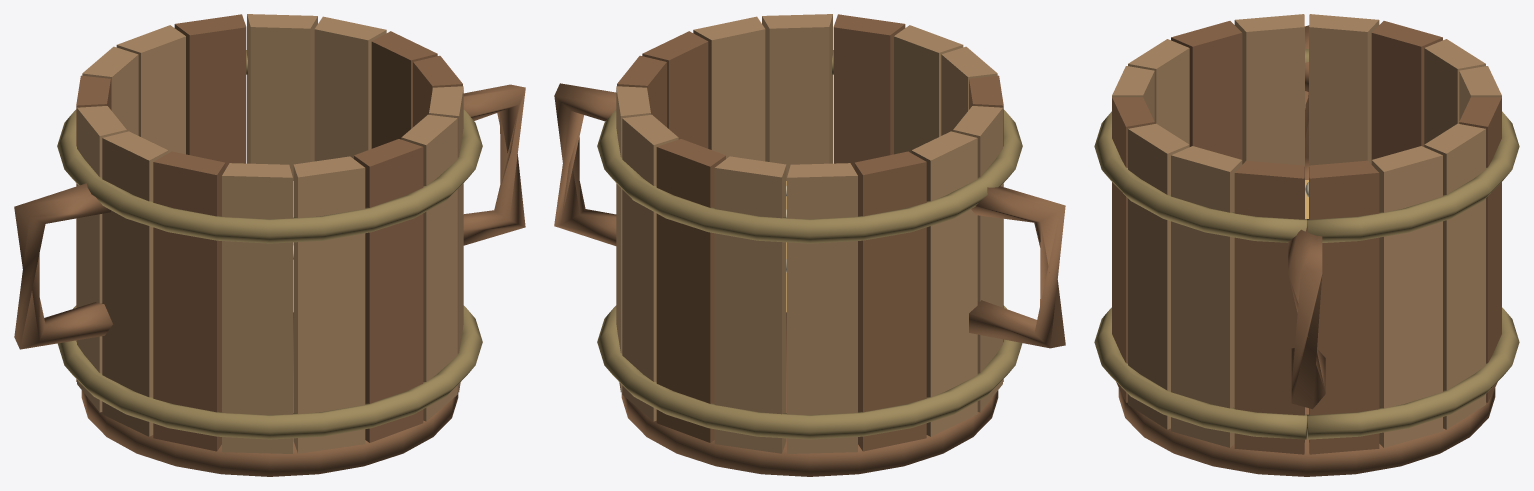
Rendered from grain-measure.glb.
The picture shows the model from 3 angles, left to right: view 1: azimuth 30°, elevation 25°; view 2: azimuth 150°, elevation 25°; view 3: azimuth 270°, elevation 25°; orthographic projection.
Parts seen in each view (by area): view 1: grain-measure__woodlight, grain-measure__wood, grain-measure__bronze; view 2: grain-measure__woodlight, grain-measure__wood, grain-measure__bronze; view 3: grain-measure__woodlight, grain-measure__wood, grain-measure__bronze.
Part boxes in pixels (left/top/right/bottom): grain-measure__woodlight: left=77, top=14, right=463, bottom=453; grain-measure__wood: left=14, top=14, right=525, bottom=476; grain-measure__bronze: left=57, top=50, right=482, bottom=439; grain-measure__woodlight: left=616, top=14, right=1002, bottom=453; grain-measure__wood: left=554, top=14, right=1065, bottom=476; grain-measure__bronze: left=597, top=50, right=1022, bottom=439; grain-measure__woodlight: left=1112, top=14, right=1501, bottom=447; grain-measure__wood: left=1112, top=21, right=1501, bottom=476; grain-measure__bronze: left=1094, top=49, right=1519, bottom=439.
Size of the model in its own units: 0.5269 by 0.3 by 0.384.
